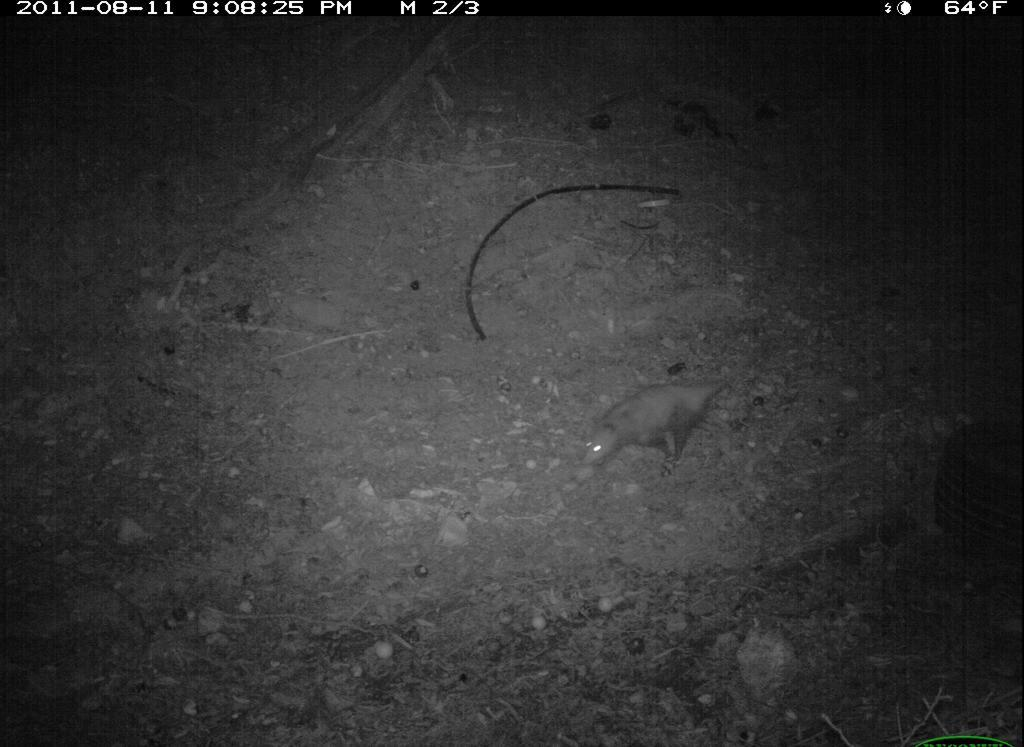opossum: (575, 351, 767, 491)
